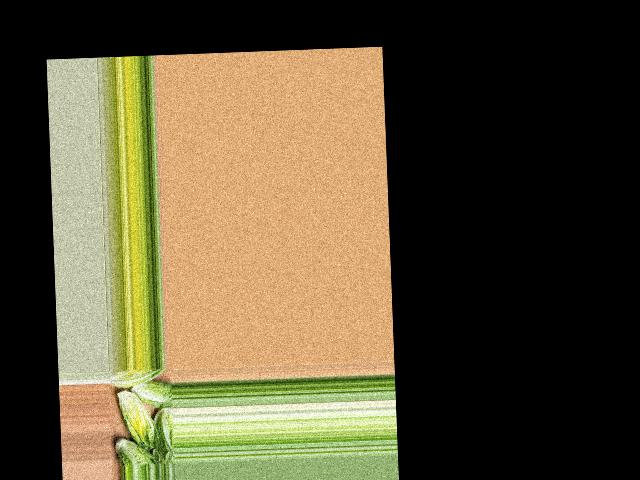lettuce: (108, 367, 164, 389)
